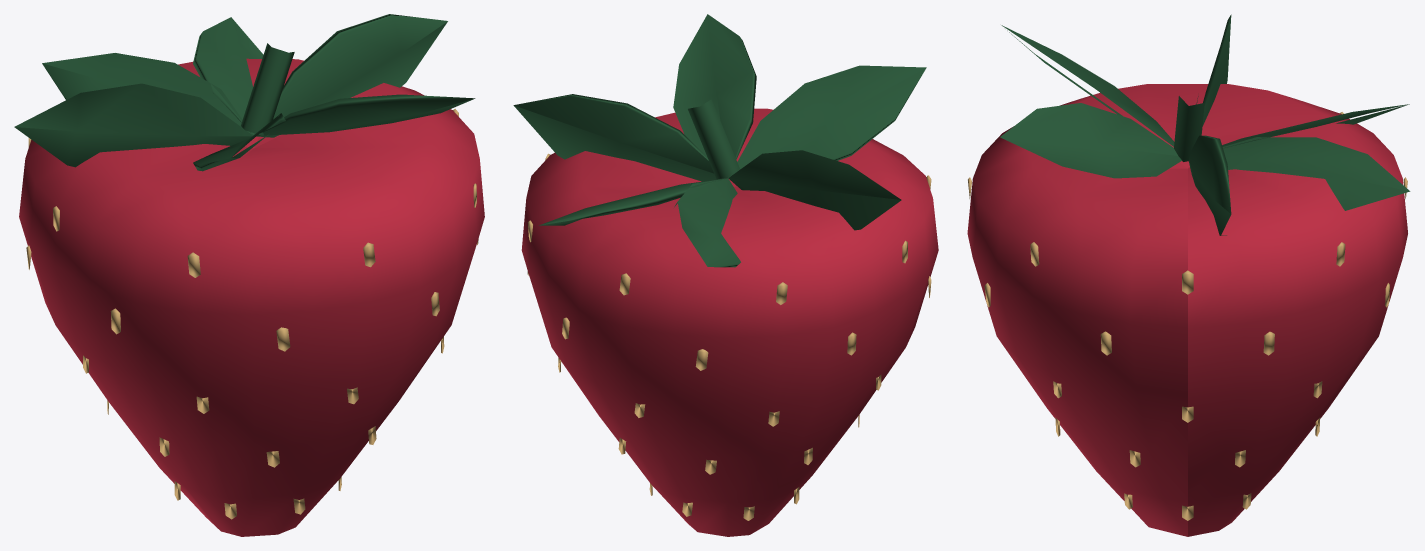
The model's file is fruta_fresa_lod.glb.
The picture shows the model from 3 angles, left to right: view 1: azimuth 30°, elevation 25°; view 2: azimuth 150°, elevation 25°; view 3: azimuth 270°, elevation 25°; orthographic projection. The views are drawn at different scales.
Visible parts, largest first — view 1: fruta_fresa; view 2: fruta_fresa; view 3: fruta_fresa.
Part boxes in pixels (bbox=[...]): fruta_fresa: bbox=[14, 14, 484, 536]; fruta_fresa: bbox=[513, 14, 938, 536]; fruta_fresa: bbox=[967, 14, 1410, 536].
Bounding box in the file's own units: 0.2648 × 0.2801 × 0.2473.
